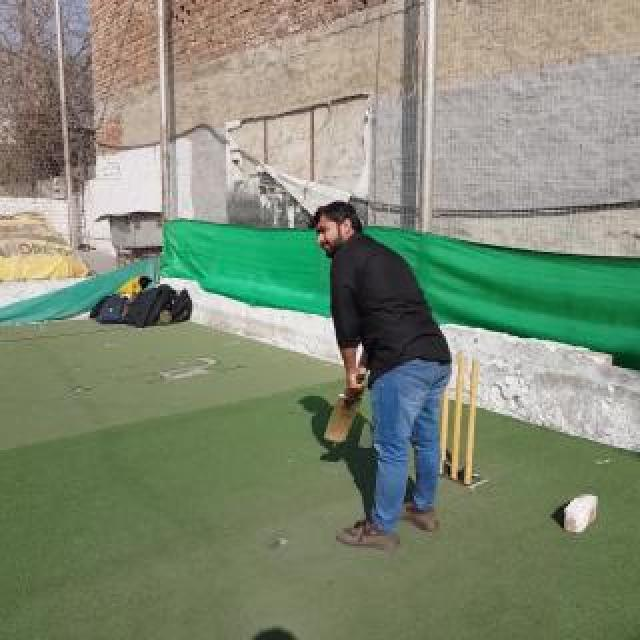bat: (324, 366, 368, 442)
